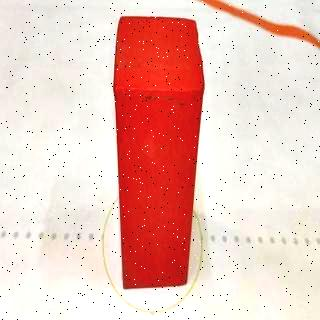redbox: (114, 13, 205, 288)
